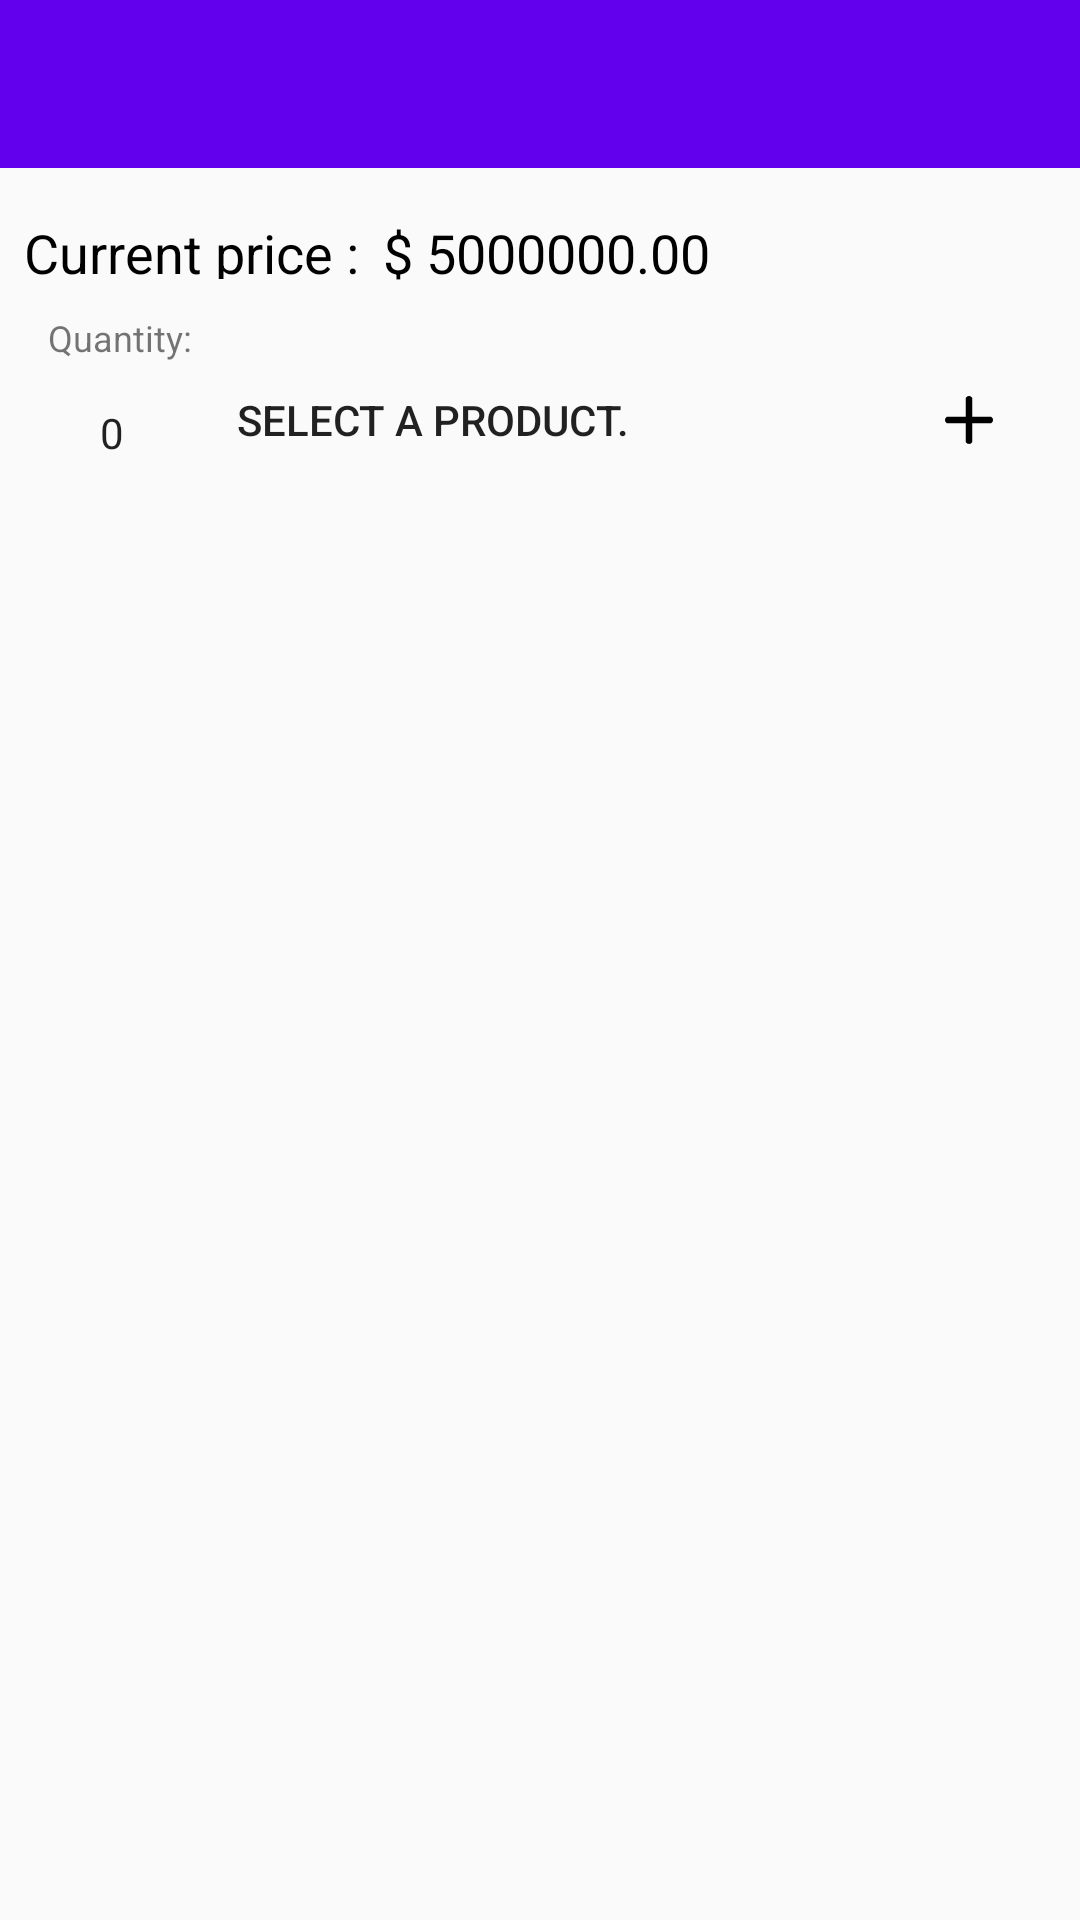

Where to tap for icons on this 1080 x 1920 app screen, as (x=x, y=y):
add: (x=969, y=420)
